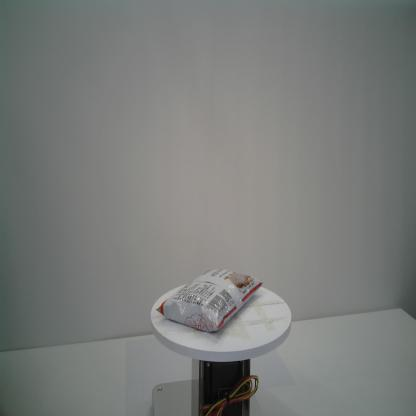Seasoner: (155, 267, 263, 332)
